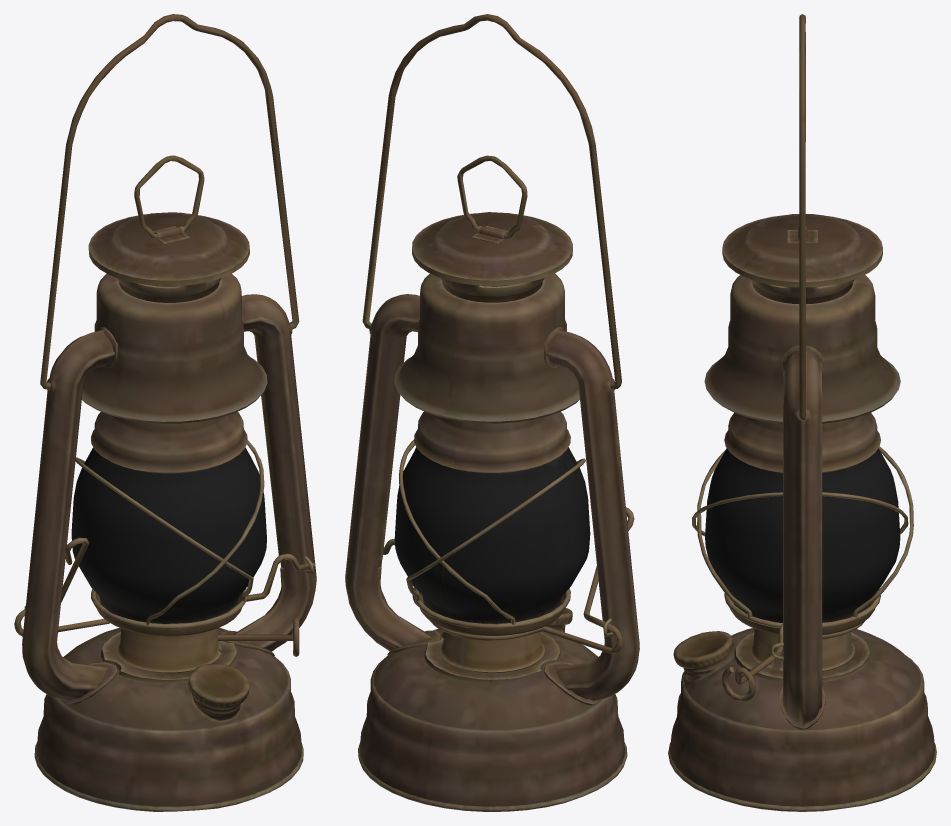
The model's file is Lantern_01_lod1.glb.
3 renders of one model, left to right at view 1: azimuth 30°, elevation 25°; view 2: azimuth 150°, elevation 25°; view 3: azimuth 270°, elevation 25°, orthographic.
Visible parts, largest first — view 1: Lantern_01, Lantern_01_glass; view 2: Lantern_01, Lantern_01_glass; view 3: Lantern_01, Lantern_01_glass.
Part boxes in pixels (x1,y1,x2,y2): Lantern_01: [14, 14, 316, 811]; Lantern_01_glass: [71, 447, 266, 623]; Lantern_01: [345, 14, 639, 811]; Lantern_01_glass: [394, 447, 590, 623]; Lantern_01: [668, 14, 936, 811]; Lantern_01_glass: [705, 448, 900, 622].
Size of the model in its own units: 0.1221 by 0.2942 by 0.0971.
2 materials, 2 textured.
